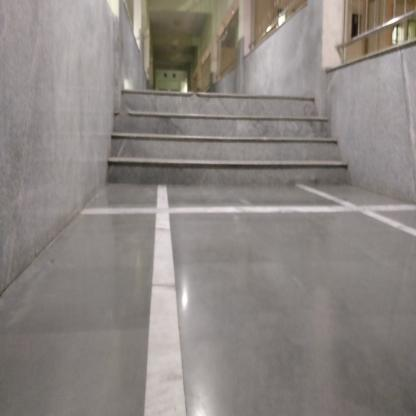stairs: (124, 89, 320, 192)
